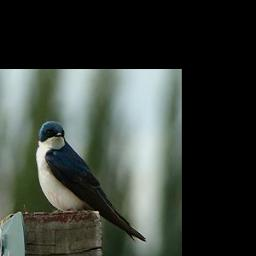Swallow: (35, 120, 147, 243)
